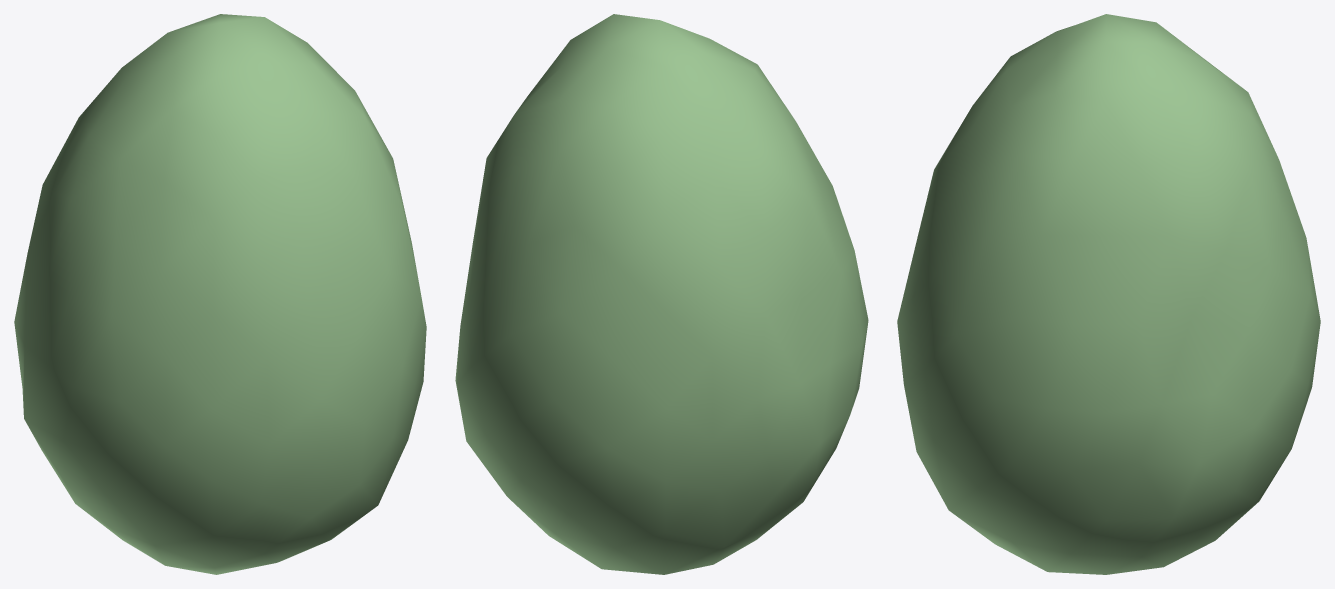
File: tree-broadleaf-a-crown.glb
3 renders of one model, left to right at view 1: azimuth 30°, elevation 25°; view 2: azimuth 150°, elevation 25°; view 3: azimuth 270°, elevation 25°, orthographic. The views are drawn at different scales.
Parts seen in each view (by area): view 1: tree-broadleaf-a-crown; view 2: tree-broadleaf-a-crown; view 3: tree-broadleaf-a-crown.
Boxes of the visible parts, box(x1,y1,x2,y2) form: tree-broadleaf-a-crown: box(14, 14, 426, 574); tree-broadleaf-a-crown: box(455, 14, 868, 574); tree-broadleaf-a-crown: box(897, 14, 1320, 574).
Size of the model in its own units: 0.4958 by 0.6899 by 0.4938.
